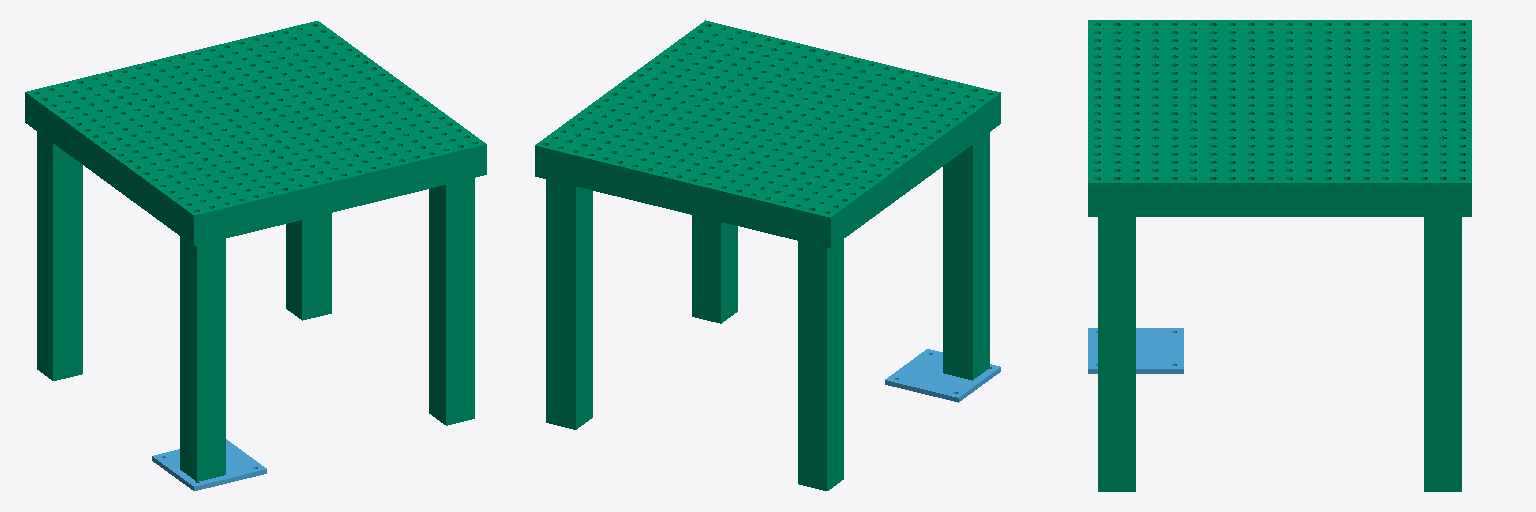
robot.urdf — panda:
<?xml version="1.0" encoding="utf-8"?>

<!-- If we wanted to use this urdf as a xacro, then we would substitute for this line below -->
<!-- <robot xmlns:xacro="http://www.ros.org/wiki/xacro" name="panda"> -->
<robot name="panda">

  <!--
  <xacro:include filename="$(find franka_description)/robots/panda_arm.xacro"/>
  <xacro:include filename="$(find franka_description)/robots/hand.xacro"/>
  <xacro:hand ns="panda" rpy="0 0 ${-pi/4}" connected_to="panda_link8"/>
  -->

  <!-- Creating our world frame -->
  <link name="world" />
  
  <joint name="world_table_j" type="fixed">
    <origin xyz="0 0 0" rpy="0 0 0" />
    <parent link="world"/>
    <child link="table" />
  </joint>  

  
  <link name="table">
    <visual>
      <geometry>
        <mesh filename="package://henrique/meshes/plate.dae" scale="1 1 1"/>
        <origin xyz="0 0 0" rpy="0 0 0"/>
      </geometry>
    </visual>
  </link>

  <!-- Sempre pra rotacionar uma peca, usamos a joint, o que faz sentido pois a joint eh o que guarda a relacao entre duas links -->
  <joint name="table_plate_j" type="fixed">
    <origin xyz="0 0 0" rpy="0 0 0" />
    <parent link="table"/>
    <child link="plate" />
  </joint>  
  

  <link name="plate">
    <visual>
      <geometry>
        <mesh filename="package://henrique/meshes/table.dae" scale="1 1 1"/>
        <origin xyz="0 0 0" rpy="0 0 0"/>
      </geometry>
    </visual>
  </link>

  
  <!-- Ai man, se eu nao tivesse a "instanciacao" do xacro do panda_arm com o plate, eu precisaria adicionar uma relacao entre meu robo e o mundo
  e eu faria isso criando essa joint world_panda.
  -->
 
  <!--
  <joint name="world_panda" type="fixed">
    <origin xyz="0.51 ${0.85+0.025} 0.12" rpy="${3/2*pi} 0 0" />
    <parent link="world"/>
    <child link="panda_link0" />
  </joint>  
    
  -->
  <!-- Variation on rotation and translation doesnt make a diff here -->
  <!-- <xacro:panda_arm xyz="0 0 0 " rpy="${pi/2} ${pi/2} ${pi/2}" connected_to="plate"/> -->
  
 

</robot>

--- What the picture shows (computed from the rendered views, not written in the file) ---
3 views of the same robot in one strip: view 1: azimuth 30°, elevation 25°; view 2: azimuth 150°, elevation 25°; view 3: azimuth 270°, elevation 25° (orthographic).
Robot: panda — 3 links, 2 joints (2 fixed); root link world; default pose: every joint at zero.
Visible links, largest first — view 1: plate, table; view 2: plate, table; view 3: plate, table.
Boxes of the visible links, x1,y1,x2,y2 form: plate: (25, 21, 486, 482); table: (152, 439, 266, 490); plate: (535, 20, 1000, 490); table: (885, 349, 1000, 402); plate: (1088, 20, 1471, 491); table: (1088, 328, 1183, 373).
Bounding box of the posed robot: 1 × 1 × 0.9 m (x, y, z).
2 mesh visuals loaded from 2 distinct referenced files (2 Collada DAE).
